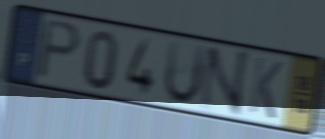0: (80, 27, 121, 93)
4: (124, 36, 156, 99)
K: (246, 54, 286, 123)
N: (196, 45, 254, 120)
P: (33, 17, 84, 83)
U: (162, 37, 209, 107)
